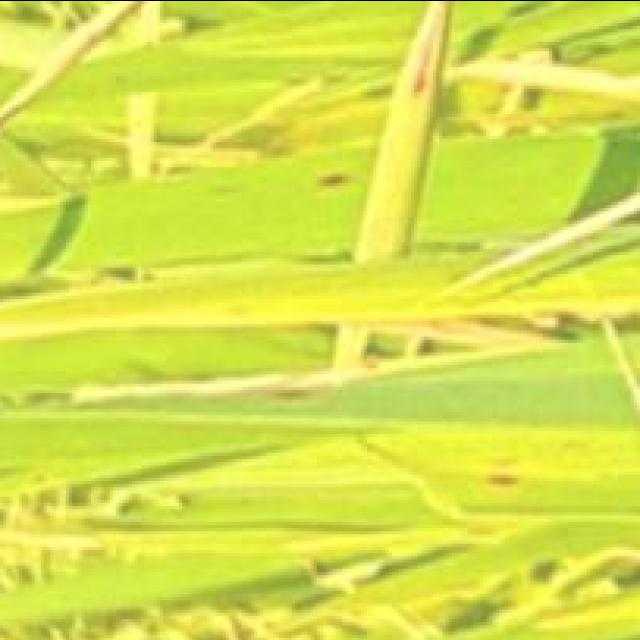Bacterial_Leaf_Blight: (0, 282, 593, 323)
